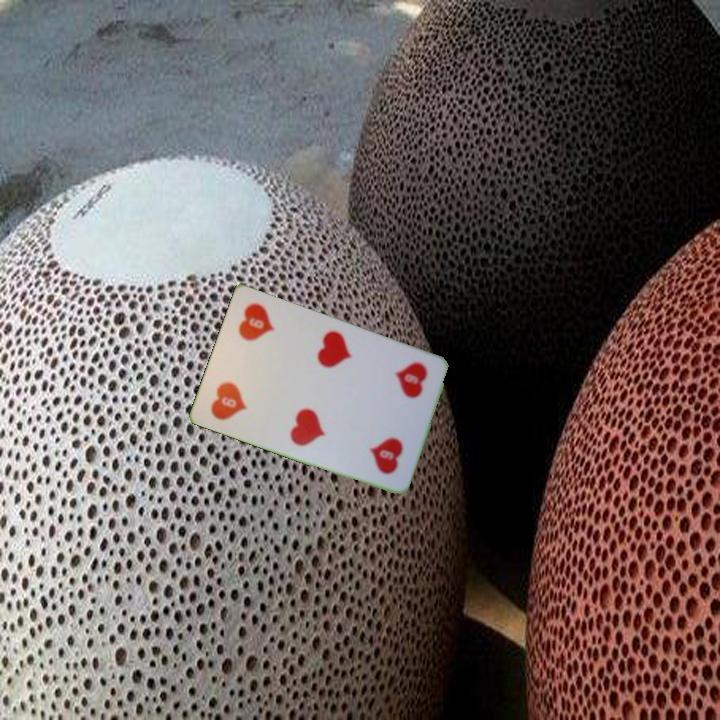h_6.png: (365, 348, 441, 429), (200, 353, 276, 434)
